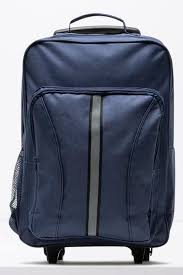bag: (17, 11, 174, 247)
